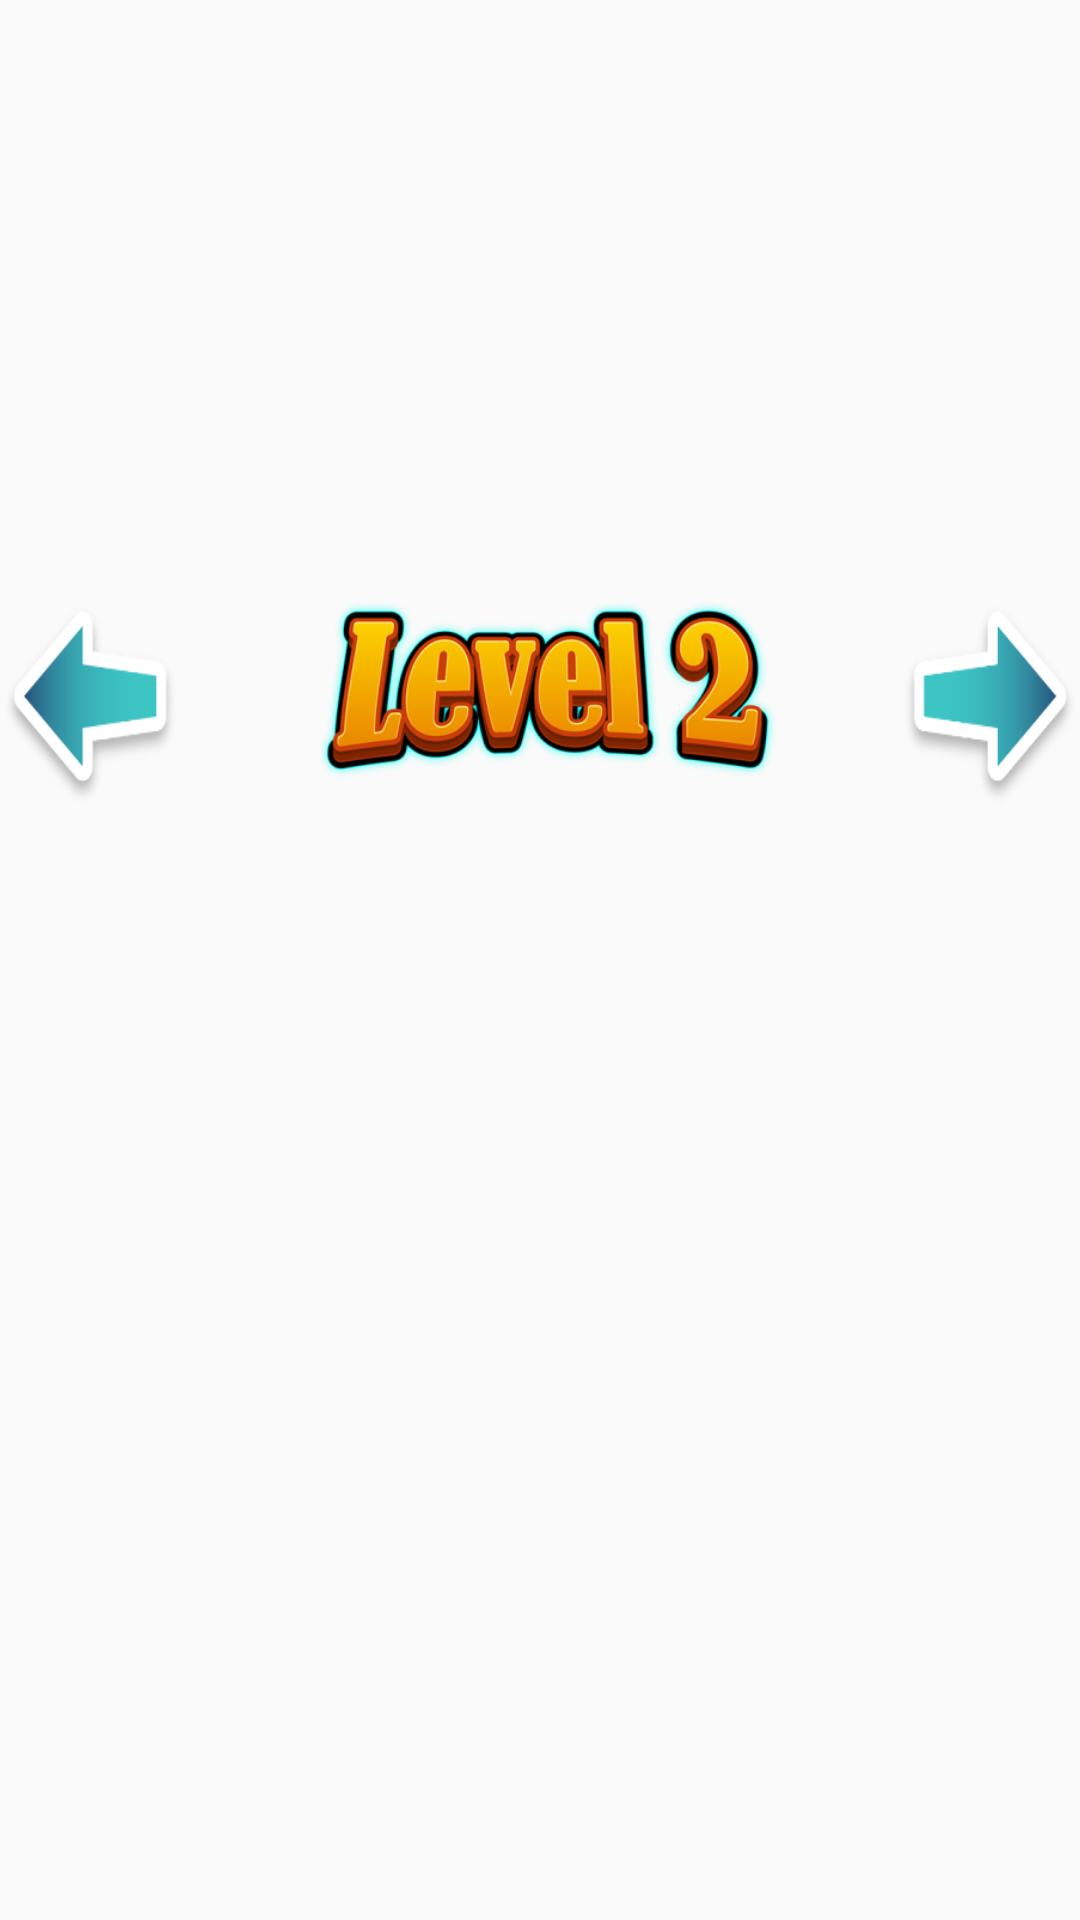

Where icons sit on this 1080x1920 app screen, as (x1, y1, x2, y2):
arrow left: (13, 626, 169, 792)
arrow right: (912, 626, 1067, 792)
